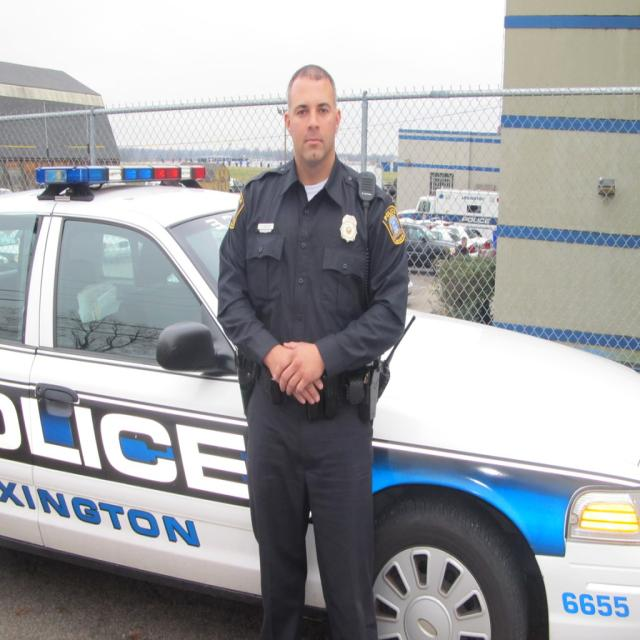car: (0, 162, 639, 638)
